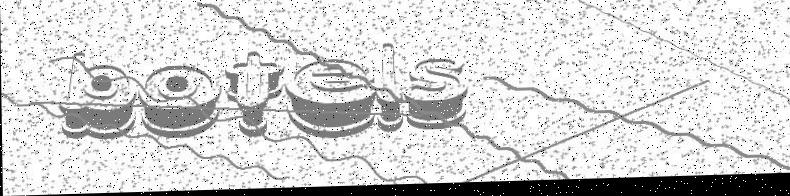b: (60, 50, 138, 145)
e: (285, 59, 377, 141)
l: (376, 44, 404, 133)
o: (140, 66, 220, 141)
s: (402, 59, 468, 134)
t: (222, 51, 285, 140)
